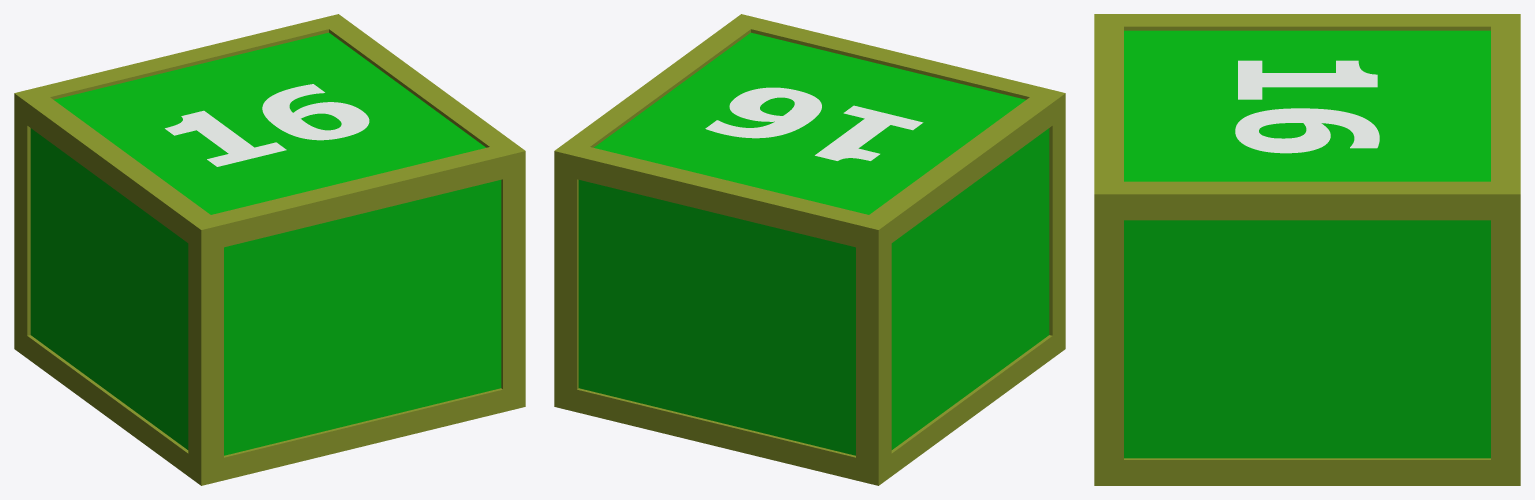
Rendered from 16Prefab.fbx.
The picture shows the model from 3 angles, left to right: view 1: azimuth 30°, elevation 25°; view 2: azimuth 150°, elevation 25°; view 3: azimuth 270°, elevation 25°; orthographic projection. The views are drawn at different scales.
Visible parts, largest first — view 1: Text.003; view 2: Text.003; view 3: Text.003.
Part boxes in pixels (left/top/right/bottom): Text.003: left=14, top=14, right=525, bottom=485; Text.003: left=554, top=14, right=1065, bottom=485; Text.003: left=1094, top=14, right=1520, bottom=485.
Bounding box in the file's own units: 194 × 146 × 194.
